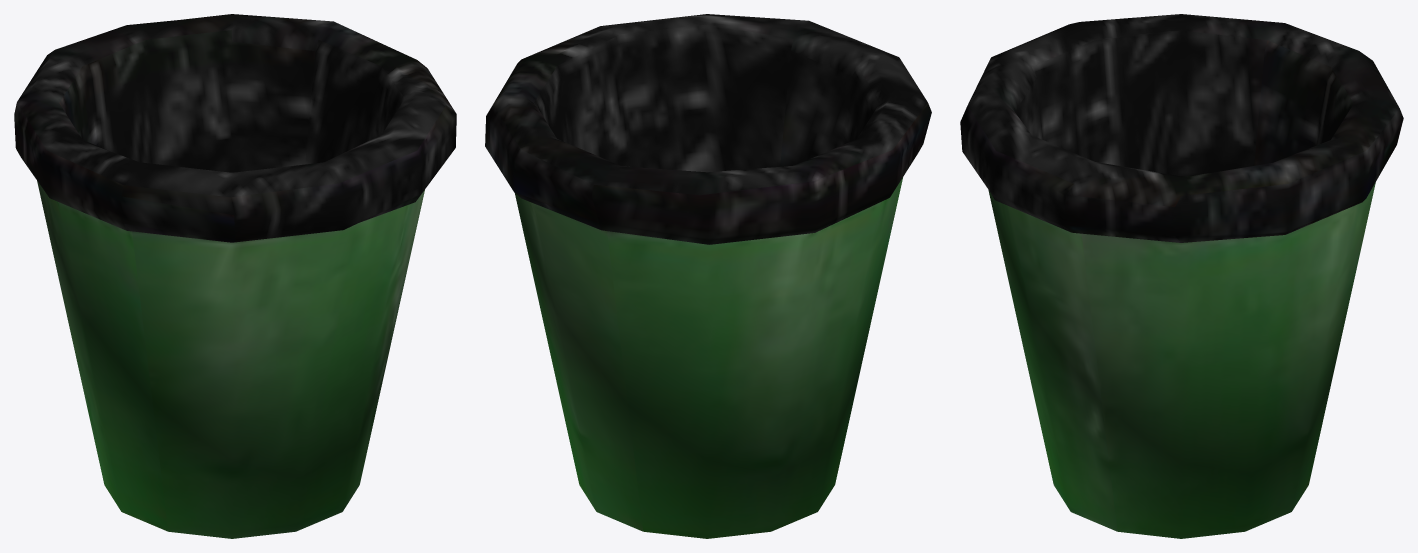
Rendered from trash-bin.glb.
The picture shows the model from 3 angles, left to right: view 1: azimuth 30°, elevation 25°; view 2: azimuth 150°, elevation 25°; view 3: azimuth 270°, elevation 25°; orthographic projection.
Visible parts, largest first — view 1: SM_KitchenBin_Utensils_0; view 2: SM_KitchenBin_Utensils_0; view 3: SM_KitchenBin_Utensils_0.
Boxes of the visible parts, <box> form: SM_KitchenBin_Utensils_0: <box>14,14,456,538</box>; SM_KitchenBin_Utensils_0: <box>485,14,931,538</box>; SM_KitchenBin_Utensils_0: <box>960,14,1403,538</box>.
Bounding box in the file's own units: 0.3967 × 0.3894 × 0.4.
Materials: 1 (1 with a texture image).
